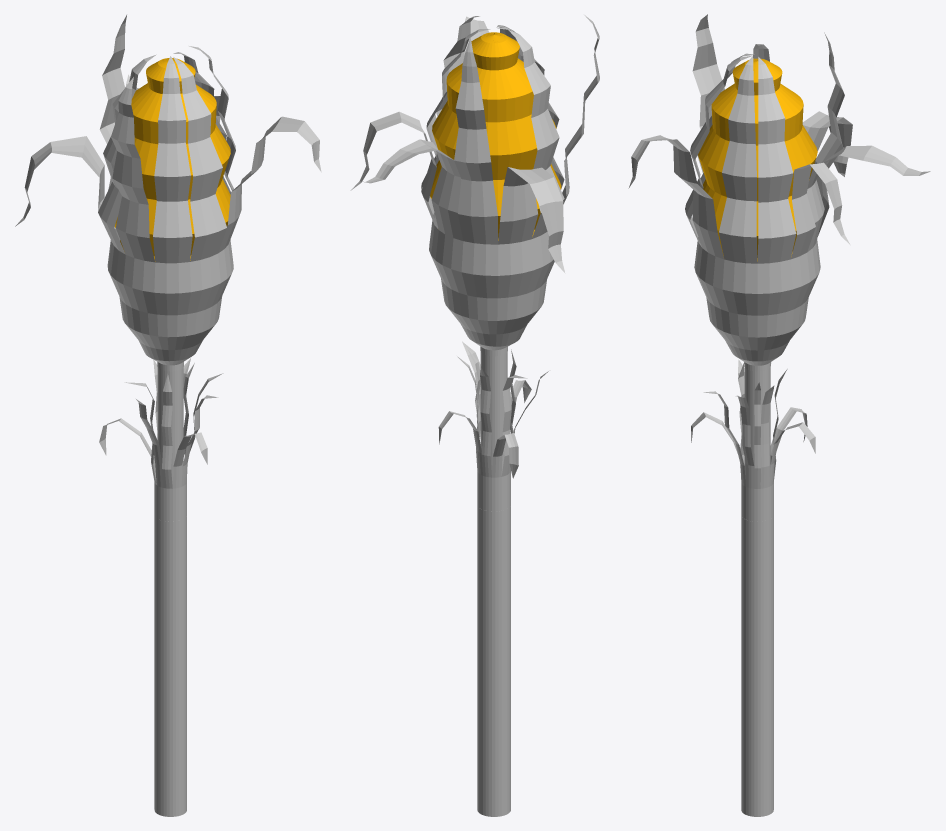
File: corn.fbx
3 renders of one model, left to right at view 1: azimuth 30°, elevation 25°; view 2: azimuth 150°, elevation 25°; view 3: azimuth 270°, elevation 25°, orthographic. The views are drawn at different scales.
Parts seen in each view (by area): view 1: leafs, stock bottom, stock leaf, corn, stock; view 2: leafs, stock bottom, corn, stock leaf, stock; view 3: leafs, stock bottom, corn, stock leaf, stock.
Part boxes in pixels (left/top/right/bottom): leafs: left=15, top=15, right=321, bottom=371; stock bottom: left=154, top=514, right=186, bottom=816; stock leaf: left=99, top=358, right=223, bottom=521; corn: left=114, top=58, right=230, bottom=261; stock: left=157, top=367, right=183, bottom=487; leafs: left=350, top=15, right=599, bottom=356; stock bottom: left=477, top=505, right=510, bottom=816; corn: left=430, top=32, right=561, bottom=240; stock leaf: left=438, top=341, right=548, bottom=511; stock: left=480, top=352, right=507, bottom=475; leafs: left=628, top=14, right=930, bottom=371; stock bottom: left=741, top=515, right=773, bottom=816; corn: left=698, top=58, right=817, bottom=261; stock leaf: left=691, top=359, right=815, bottom=521; stock: left=744, top=367, right=770, bottom=485.
Size of the model in its own units: 72.75 by 262 by 93.05.
